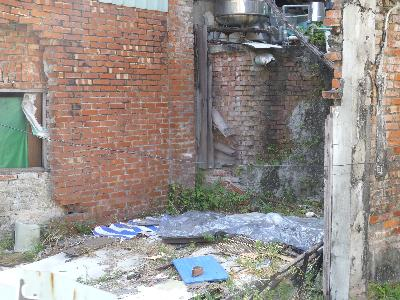plastic_bag: (157, 202, 326, 251), (93, 214, 161, 240)
